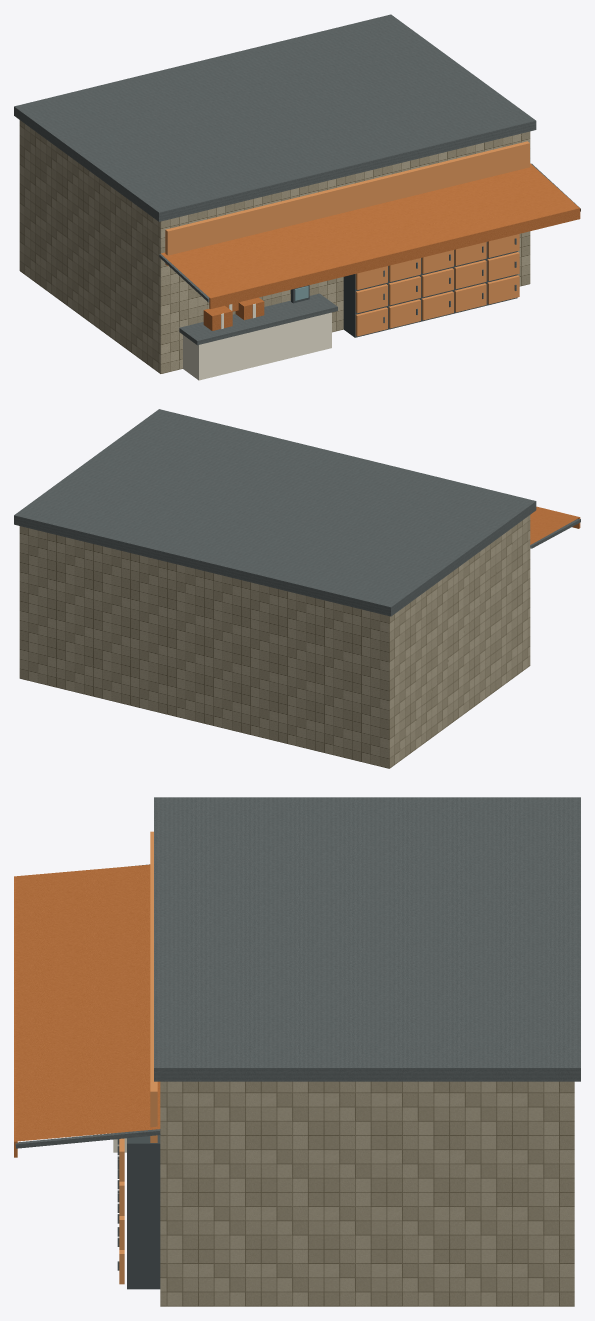
The model's file is tw_parcel_station.glb.
3 views of the same model, one above another, from view 1: azimuth 30°, elevation 25°; view 2: azimuth 150°, elevation 25°; view 3: azimuth 270°, elevation 25° (orthographic). The views are drawn at different scales.
Visible parts, largest first — view 1: GalvanizedMetal, TiledMasonry, WovenAwning, FictionalShopAccent, PaintedCream, CharcoalRecess; view 2: TiledMasonry, GalvanizedMetal, WovenAwning; view 3: GalvanizedMetal, TiledMasonry, WovenAwning, CharcoalRecess, FictionalShopAccent.
Boxes of the visible parts, x1,y1,x2,y2 form: GalvanizedMetal: [14, 14, 580, 345]; TiledMasonry: [19, 120, 530, 373]; WovenAwning: [161, 163, 580, 330]; FictionalShopAccent: [165, 141, 529, 336]; PaintedCream: [183, 303, 331, 380]; CharcoalRecess: [291, 242, 517, 337]; TiledMasonry: [19, 515, 530, 768]; GalvanizedMetal: [14, 409, 580, 616]; WovenAwning: [530, 506, 580, 544]; GalvanizedMetal: [15, 797, 580, 1270]; TiledMasonry: [160, 1081, 574, 1306]; WovenAwning: [14, 864, 160, 1157]; CharcoalRecess: [127, 1129, 160, 1289]; FictionalShopAccent: [119, 831, 157, 1284].
Size of the model in its own units: 10.2 by 4.24 by 9.03.
Materials: 7 (3 with a texture image).
